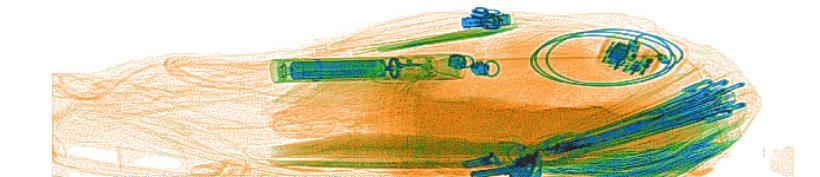battery: (287, 57, 388, 83)
